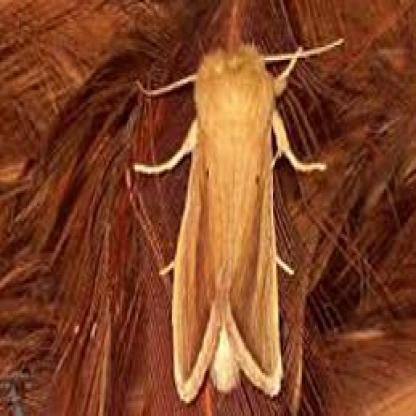stem-borer: (170, 37, 286, 406)
